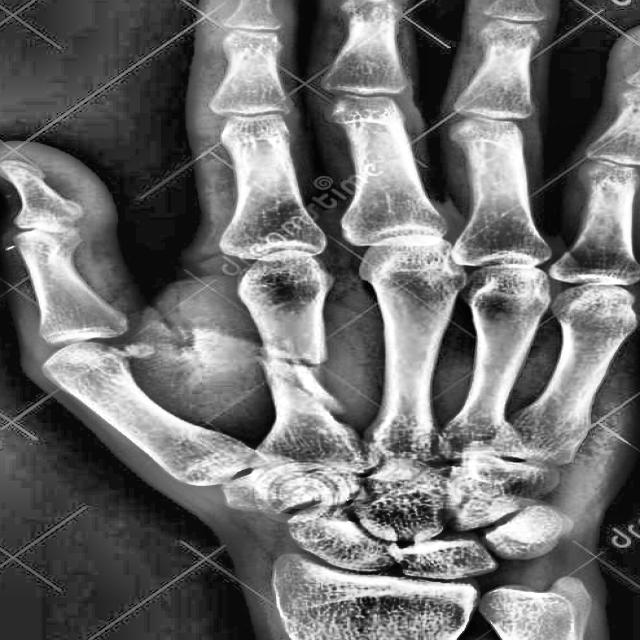fracture: (259, 352, 332, 373)
